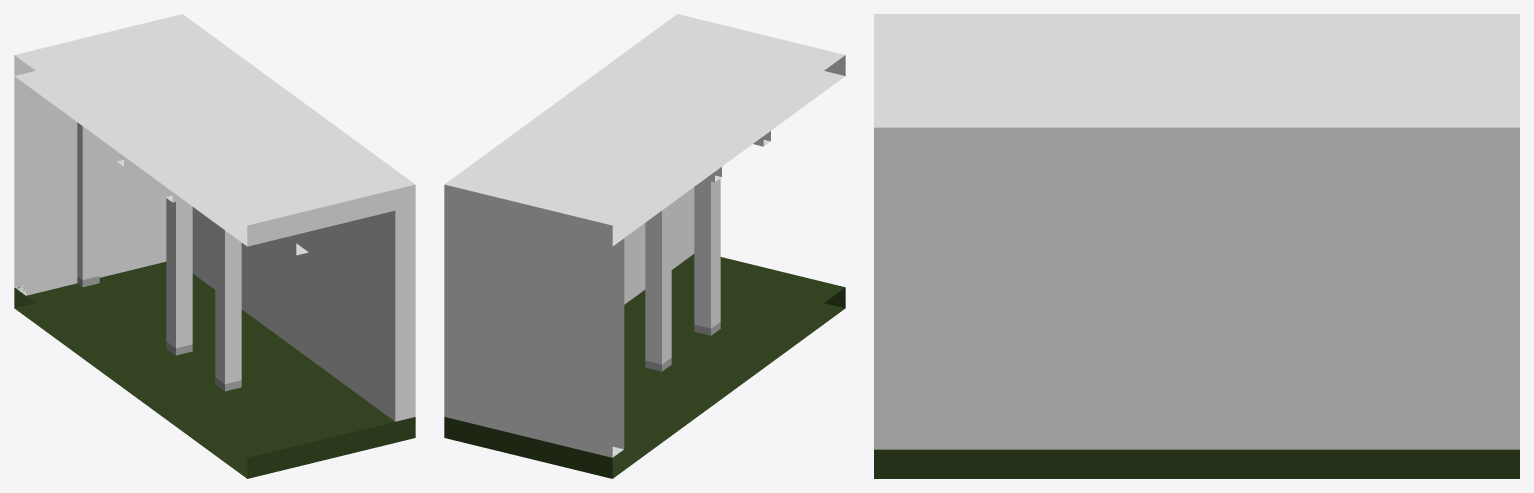
The model's file is SM_cangChu_3.fbx.
3 renders of one model, left to right at view 1: azimuth 30°, elevation 25°; view 2: azimuth 150°, elevation 25°; view 3: azimuth 270°, elevation 25°, orthographic. The views are drawn at different scales.
Visible parts, largest first — view 1: SM_cangChu_3; view 2: SM_cangChu_3; view 3: SM_cangChu_3.
Part boxes in pixels (<box>): SM_cangChu_3: <box>14,14,415,478</box>; SM_cangChu_3: <box>444,14,845,478</box>; SM_cangChu_3: <box>874,14,1519,478</box>.
Bounding box in the file's own units: 5 × 7.2 × 12.
